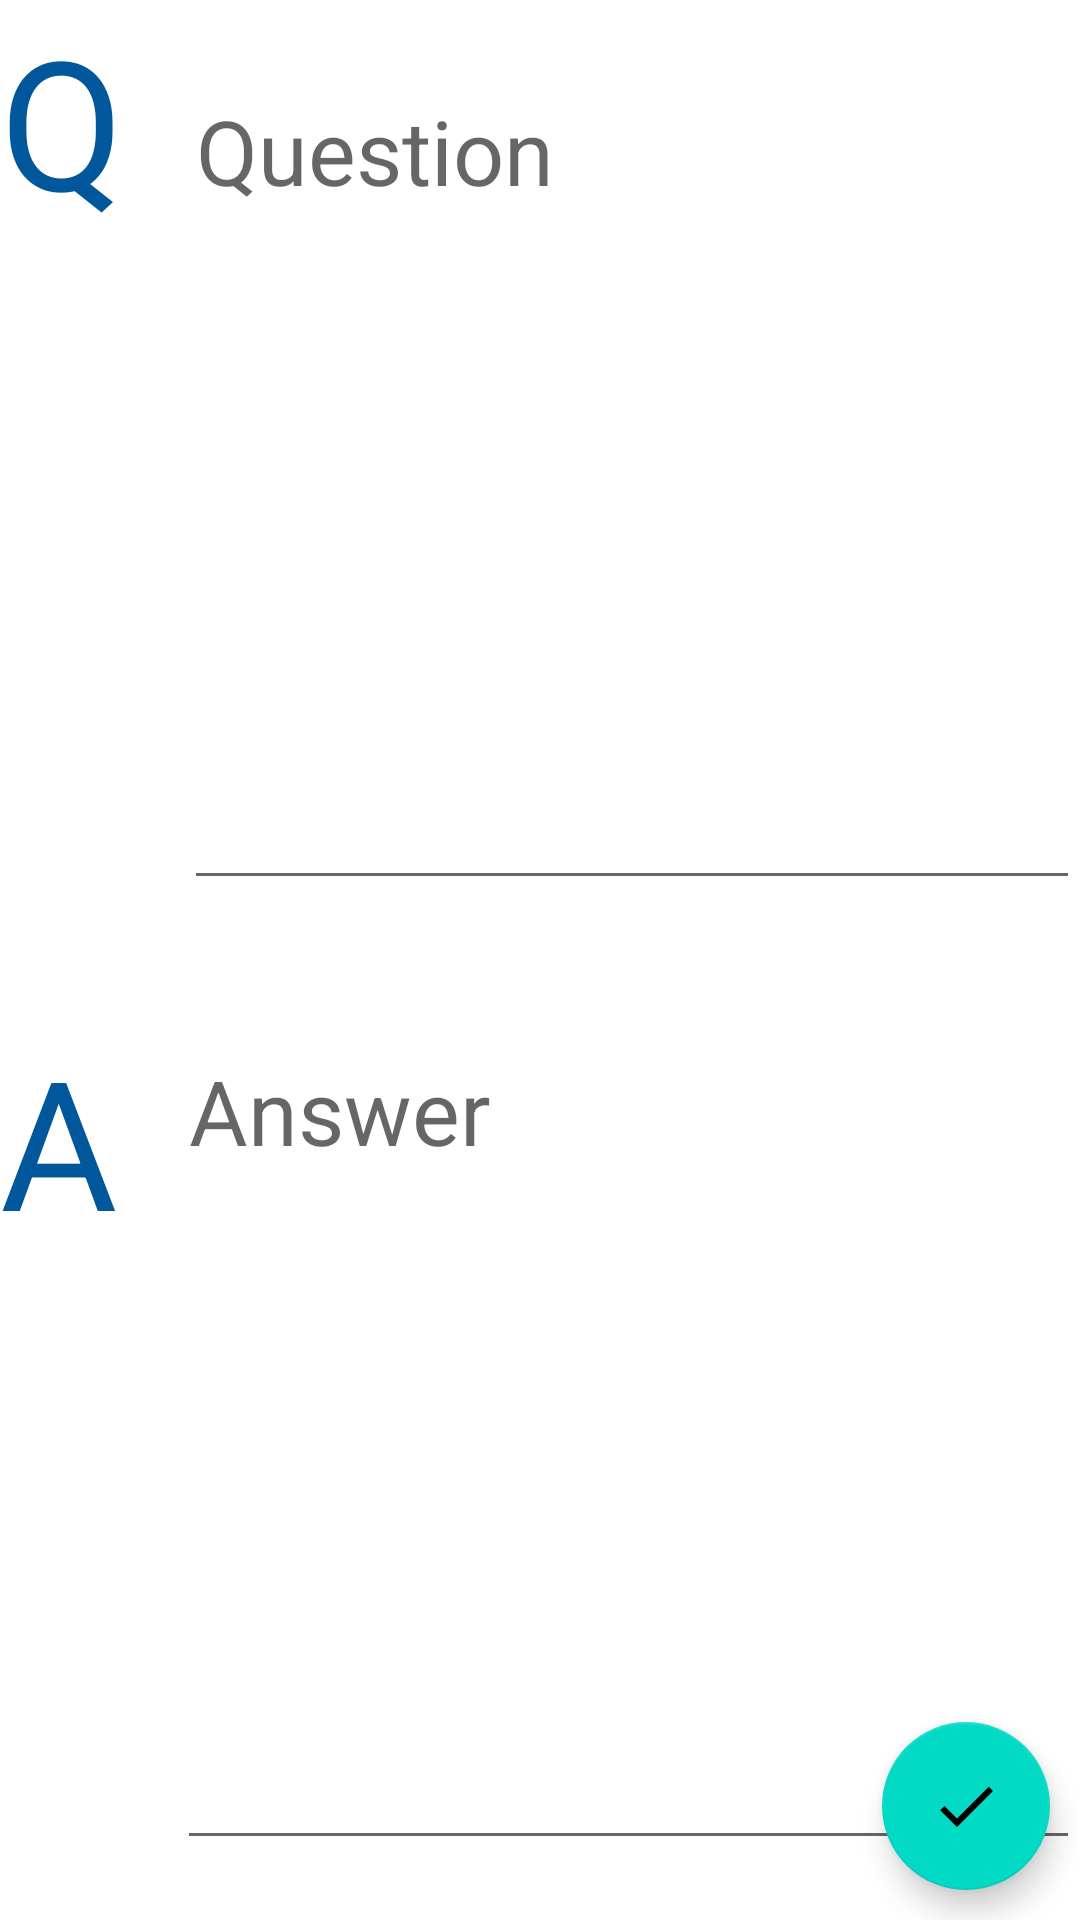

Icon bounding boxes for this 1080px×1920px phone screenshot, format (x1=x1, y1=y1, x2=x2, y2=y2):
Save Question: (x1=882, y1=1722, x2=1050, y2=1890)
